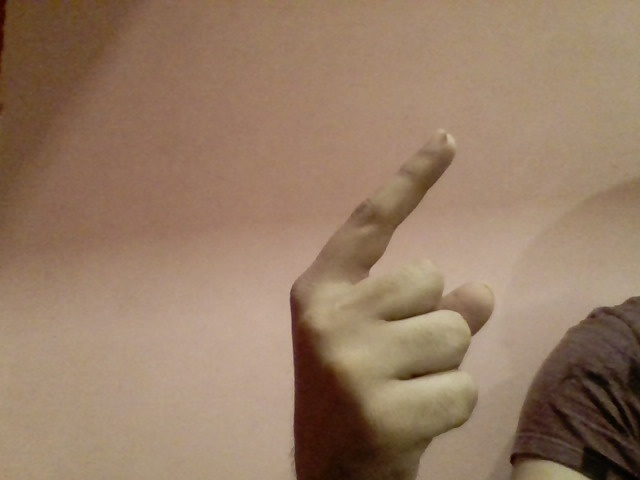z: (277, 104, 510, 480)
